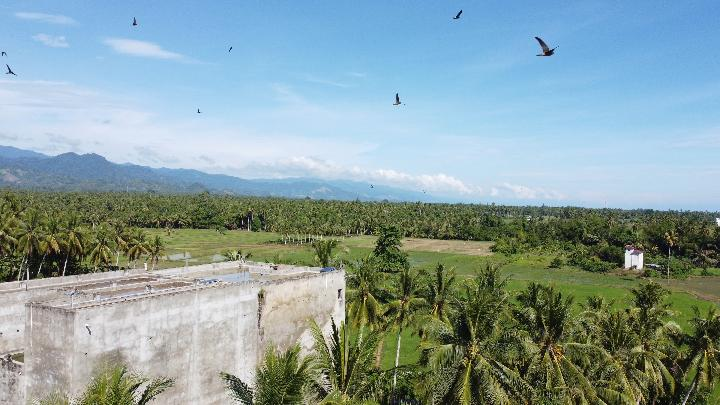walet: (534, 34, 560, 58), (391, 90, 406, 106), (450, 8, 462, 20)
